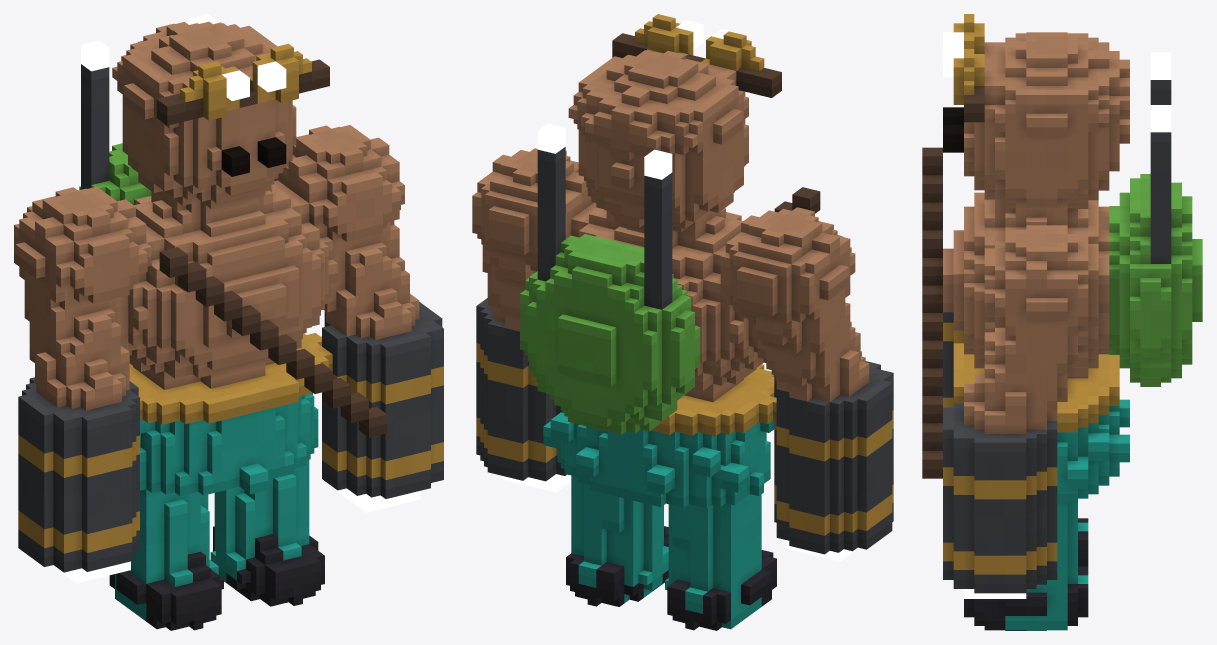
Rendered from u_moine__artificier.glb.
3 renders of one model, left to right at view 1: azimuth 30°, elevation 25°; view 2: azimuth 150°, elevation 25°; view 3: azimuth 270°, elevation 25°, orthographic.
Visible parts, largest first — view 1: moine_body, moine_glow; view 2: moine_body, moine_glow; view 3: moine_body, moine_glow.
Part boxes in pixels (x1,y1,x2,y2): moine_body: (14, 21, 443, 630); moine_glow: (52, 14, 420, 583); moine_body: (472, 14, 893, 630); moine_glow: (503, 20, 858, 561); moine_body: (922, 14, 1202, 630); moine_glow: (943, 32, 1171, 598).
Bounding box in the file's own units: 1.1 × 1.5 × 0.675.
